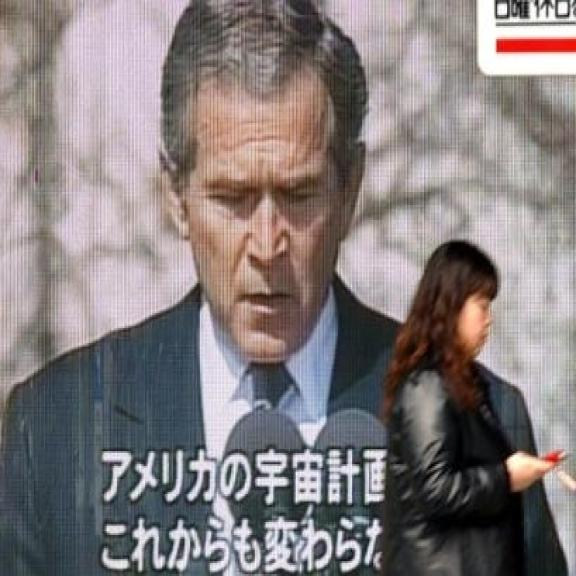face: (157, 29, 369, 367), (451, 254, 496, 366)
